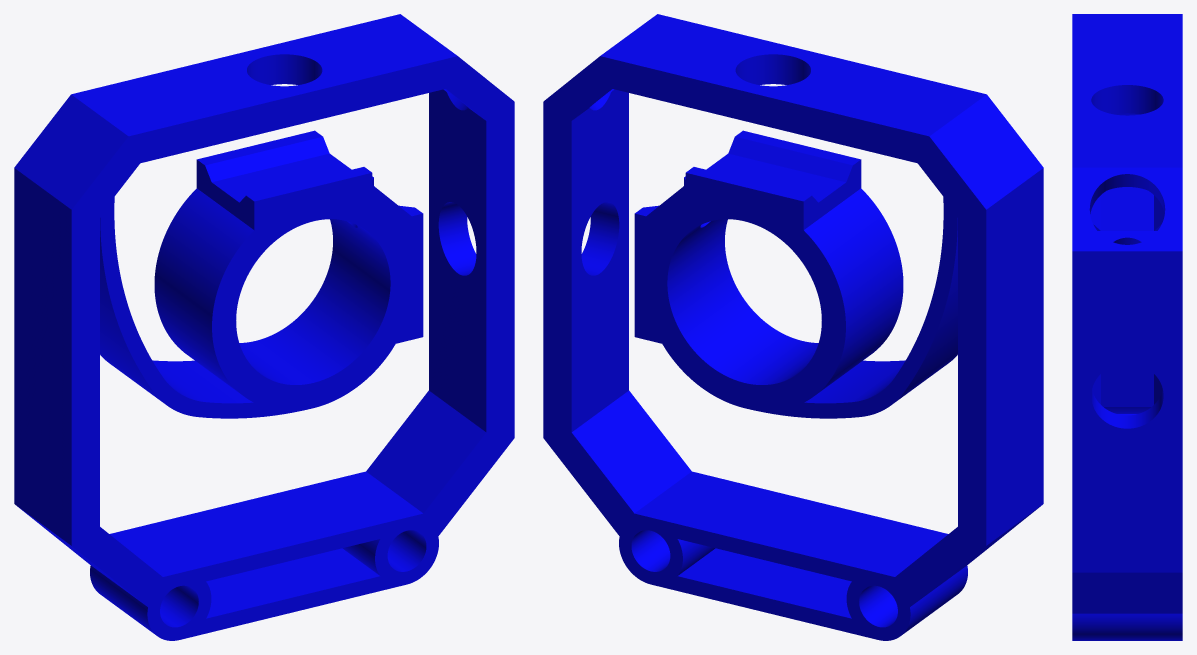
File: Cube 1x1 V5_SM05 Lense Holder (V5).obj
3 renders of one model, left to right at view 1: azimuth 30°, elevation 25°; view 2: azimuth 150°, elevation 25°; view 3: azimuth 270°, elevation 25°, orthographic. The views are drawn at different scales.
Parts seen in each view (by area): view 1: Solid1:19; view 2: Solid1:19; view 3: Solid1:19.
Boxes of the visible parts, x1,y1,x2,y2 form: Solid1:19: (14,14,514,640); Solid1:19: (543,14,1043,640); Solid1:19: (1072,14,1182,640).
Size of the model in its own units: 38.94 by 43.33 by 8.75.
